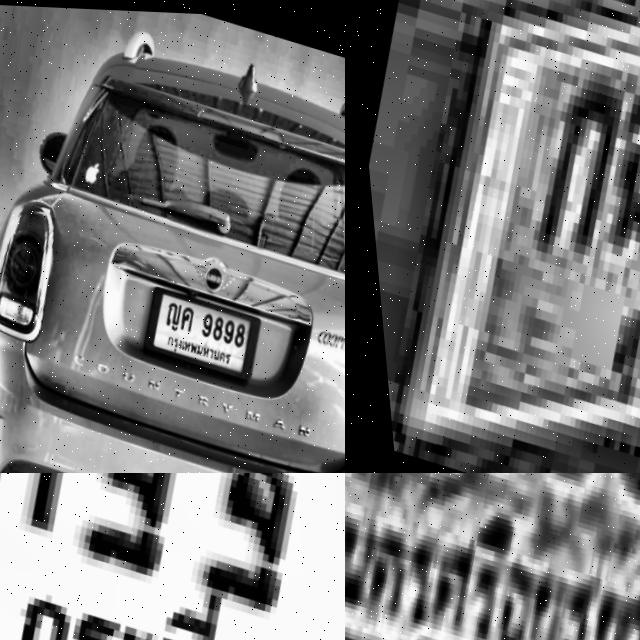license-plate: (345, 0, 640, 473), (0, 473, 345, 640), (345, 473, 640, 640), (136, 280, 257, 374)
